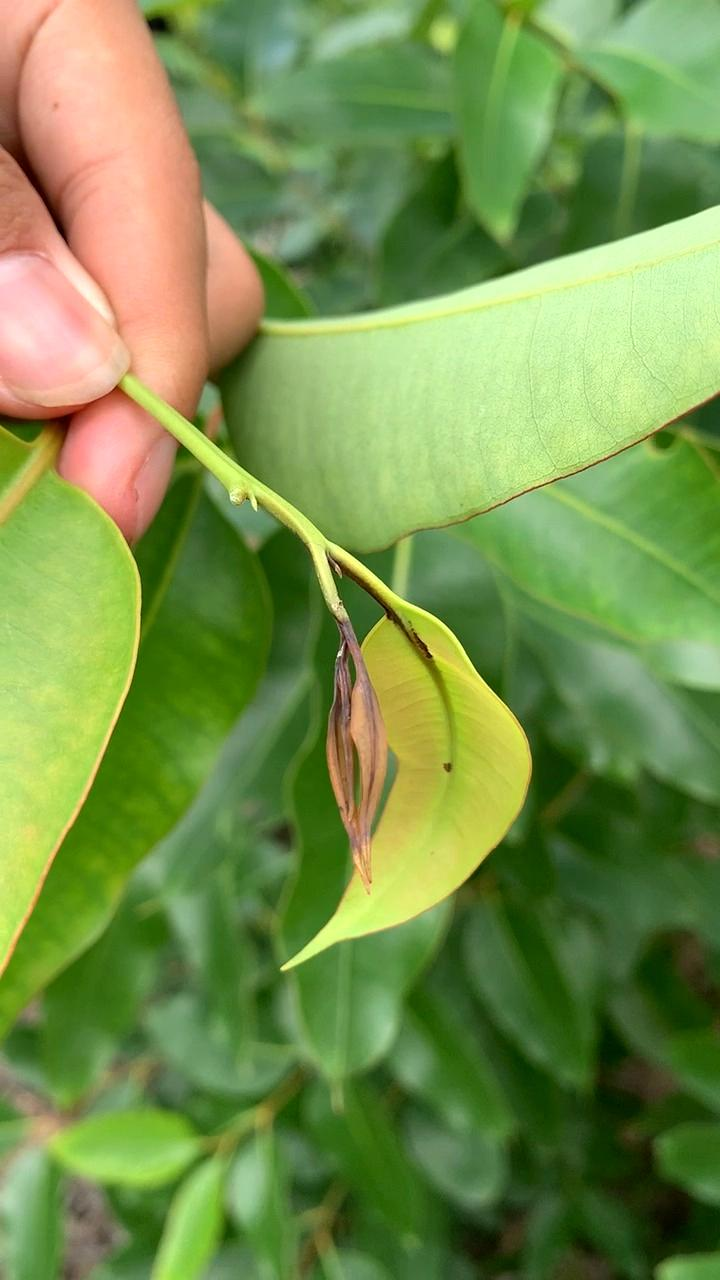Helopeltis-Withered Sprout: (316, 618, 397, 881)
